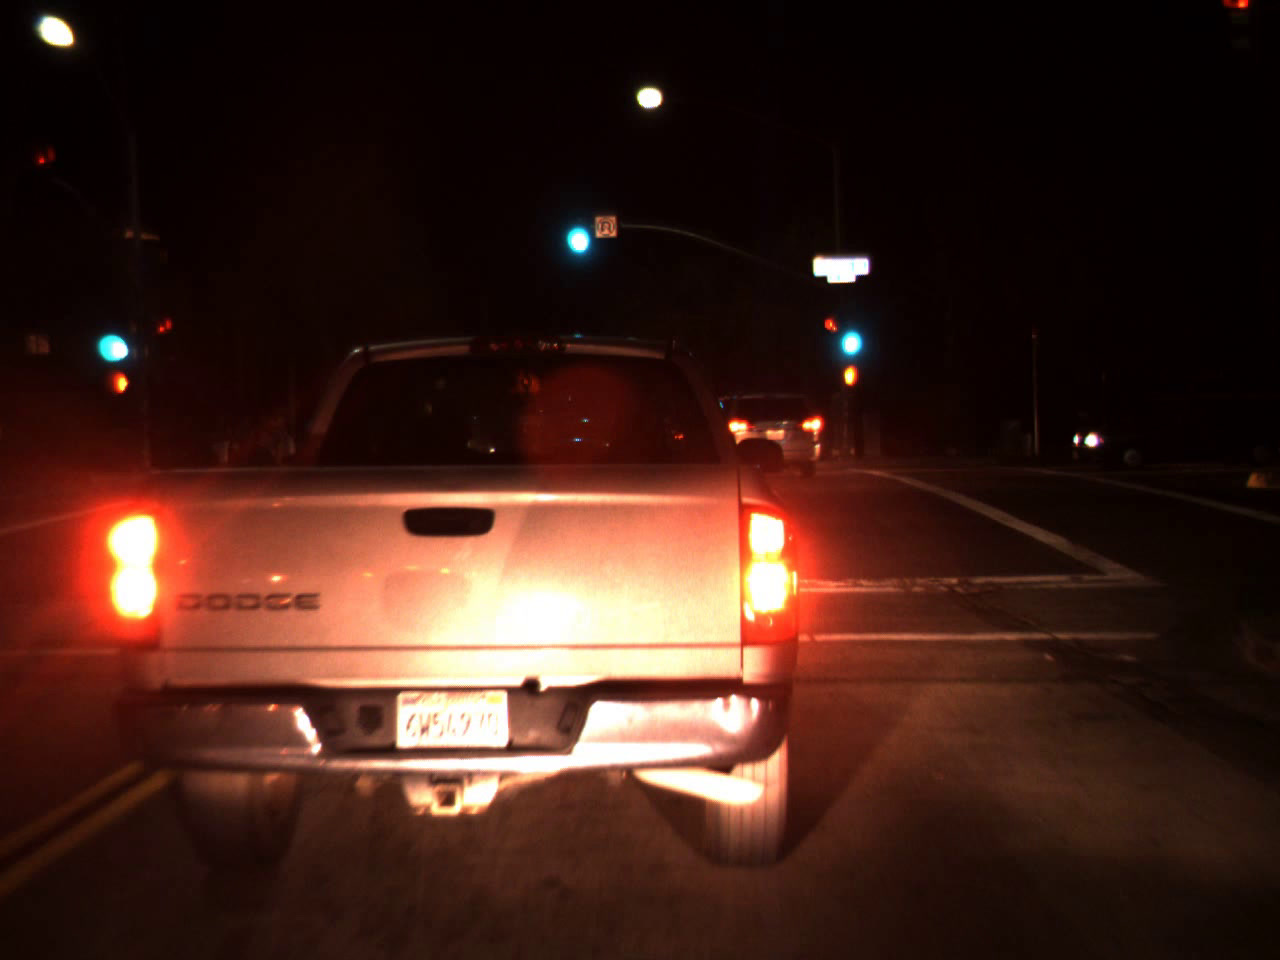go: (87, 301, 132, 372), (557, 194, 594, 263), (833, 299, 866, 365)
